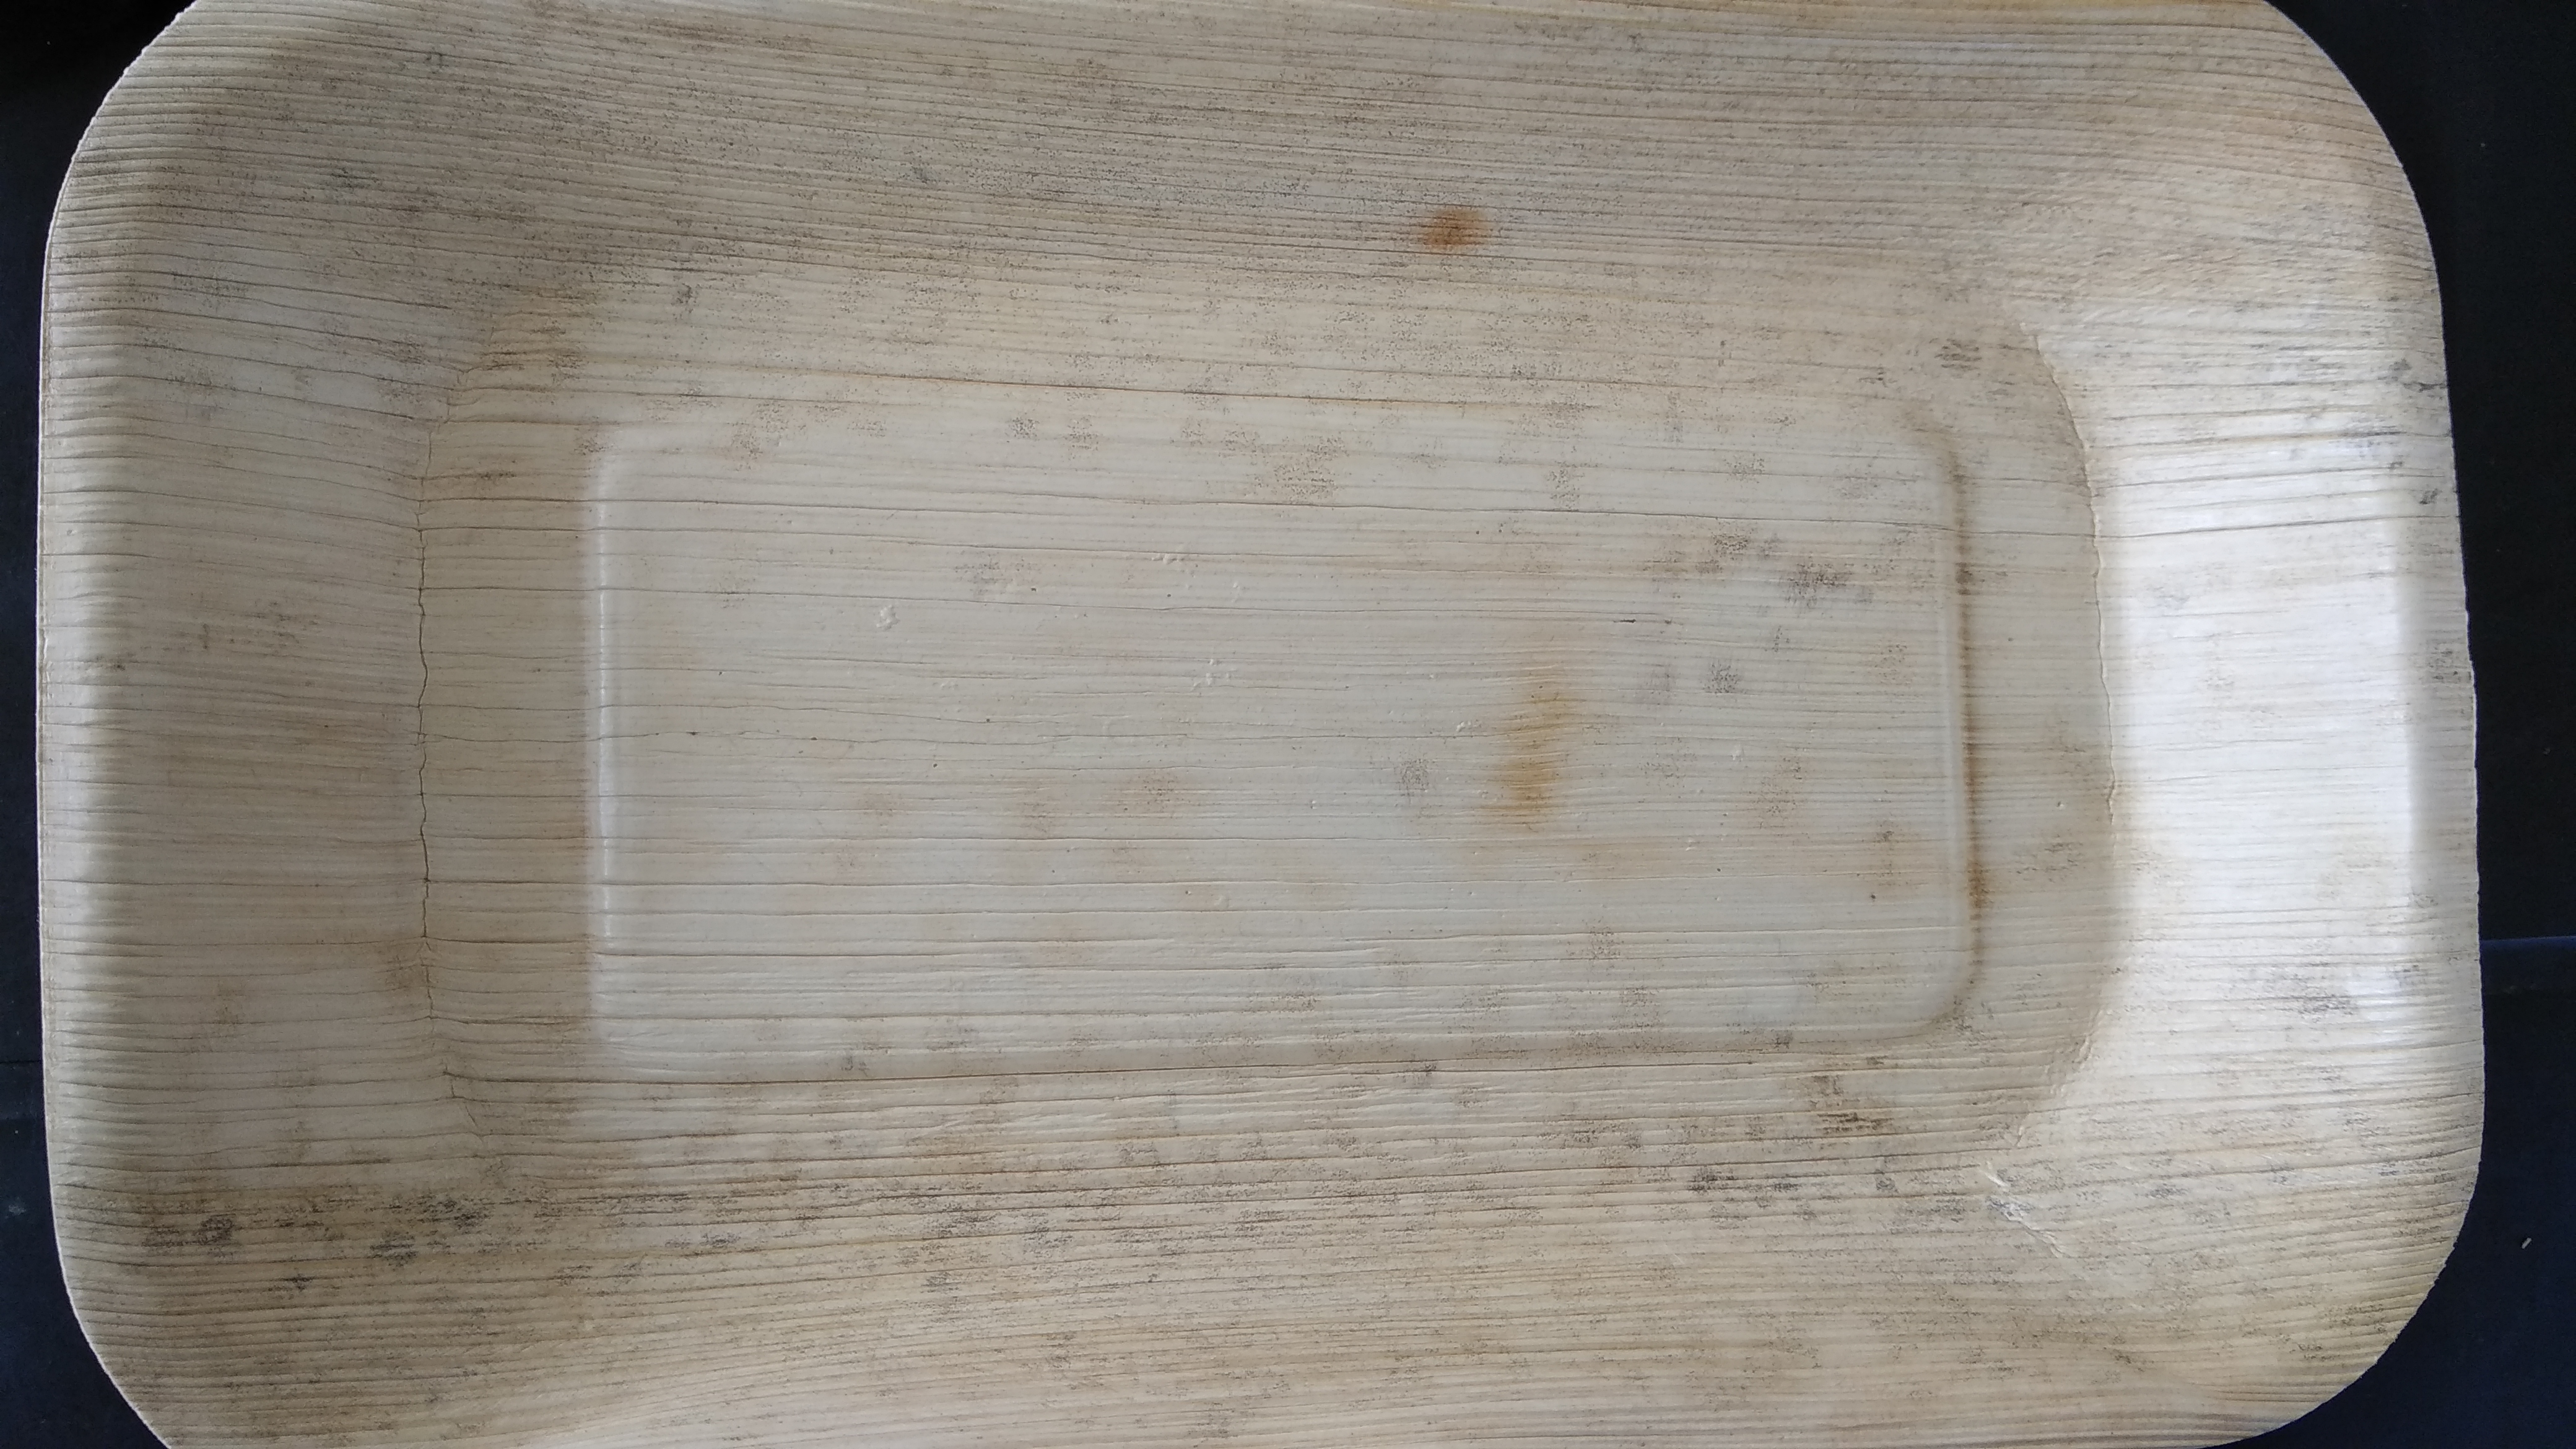areca plate: (42, 16, 2498, 1449)
